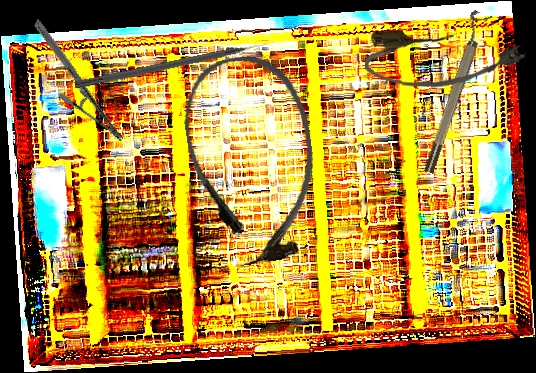Cannula: (175, 48, 329, 272), (364, 29, 527, 91)
Fixation Ring: (414, 9, 494, 175)
Hook Surgical: (74, 40, 270, 92)
Needle Holder: (4, 18, 154, 144)
